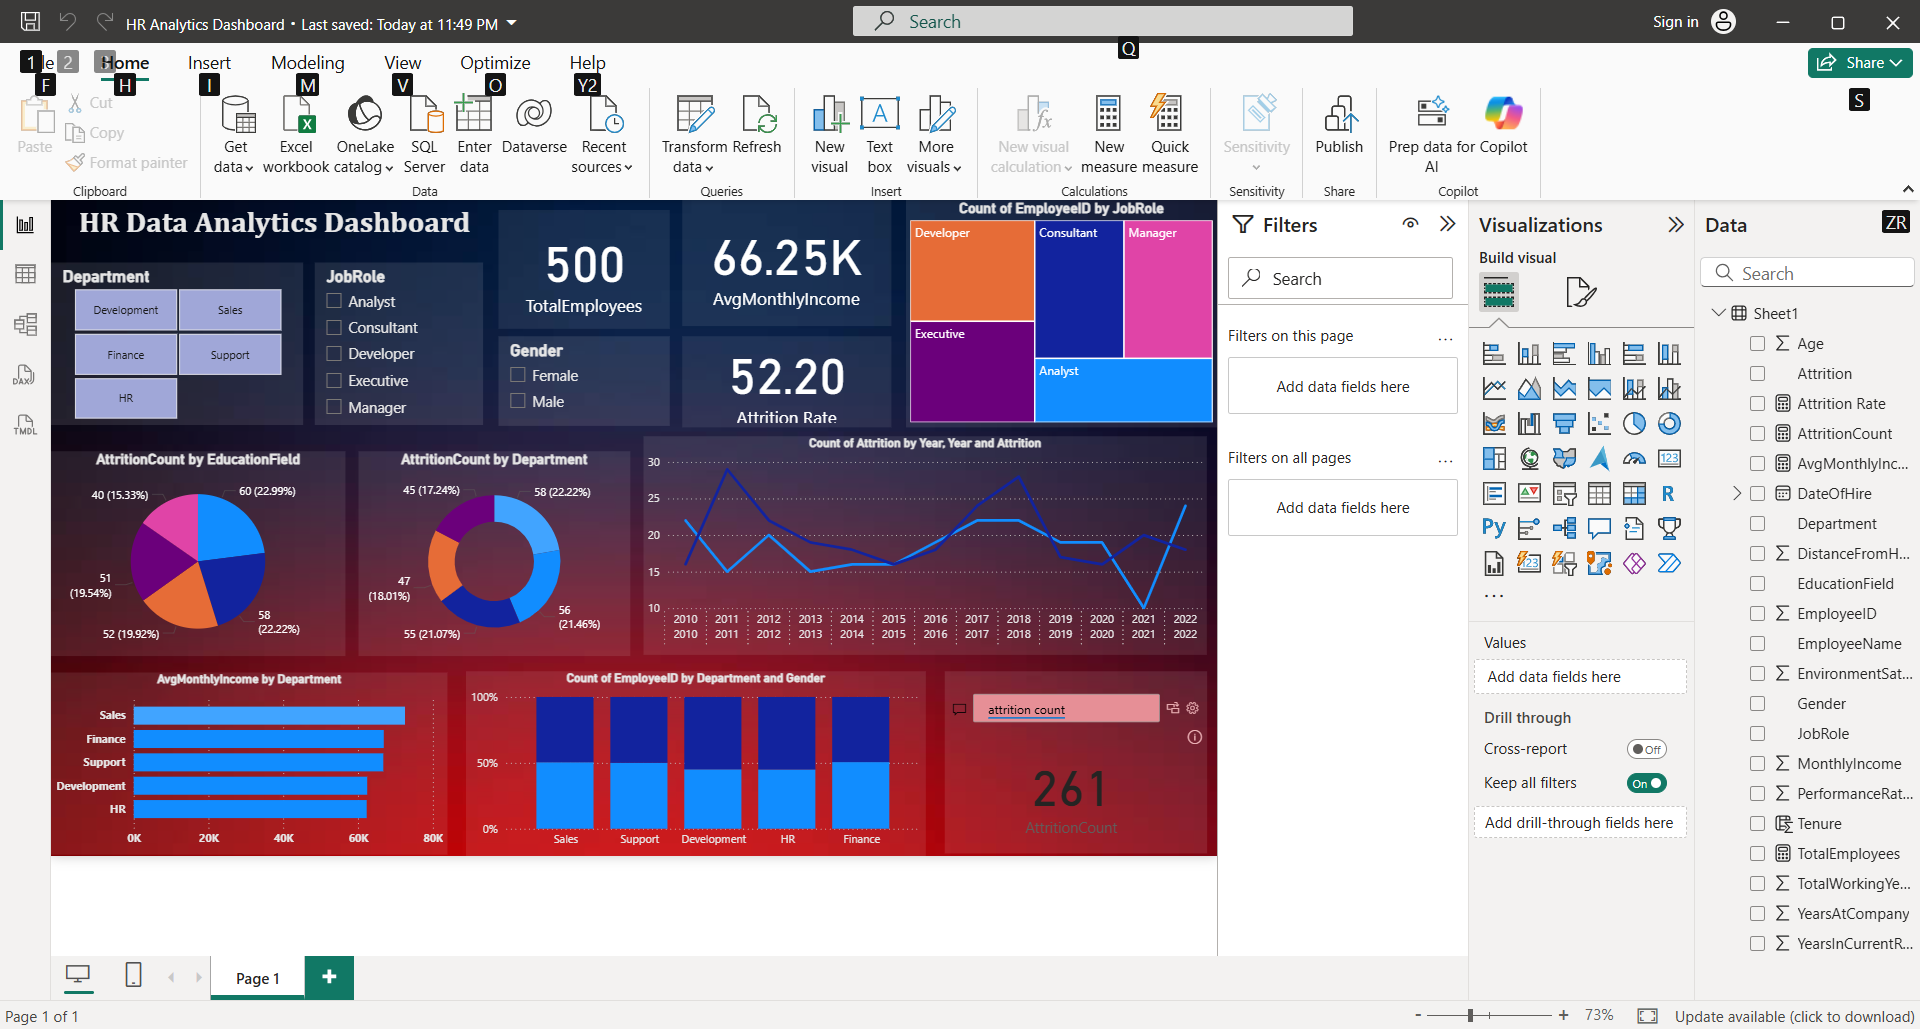

This screenshot's page, from the dashboard's own definition file:
{"tool":"powerbi","page":{"name":"Page 1","canvas":[1280,720],"ordinal":0},"visuals":[{"type":"slicer","fields":{"Values":["Sheet1.Department"]},"box":[0,69.2,276.9,178.5],"z":0},{"type":"slicer","fields":{"Values":["Sheet1.Gender"]},"box":[490.8,149.2,187.7,98.5],"z":1000},{"type":"slicer","fields":{"Values":["Sheet1.JobRole"]},"box":[289.2,69.2,184.6,178.5],"z":2000},{"type":"pieChart","fields":{"Y":["Sheet1.AttritionCount"],"Category":["Sheet1.EducationField"]},"box":[0,275.4,323.1,224.6],"z":3000},{"type":"donutChart","fields":{"Y":["Sheet1.AttritionCount"],"Category":["Sheet1.Department"]},"box":[336.9,275.4,298.5,224.6],"z":4000},{"type":"hundredPercentStackedColumnChart","fields":{"Category":["Sheet1.Department"],"Y":["CountNonNull(Sheet1.EmployeeID)"],"Series":["Sheet1.Gender"]},"box":[455.4,516.9,504.6,203.1],"z":5000},{"type":"treemap","fields":{"Values":["CountNonNull(Sheet1.EmployeeID)"],"Details":["Sheet1.JobRole"]},"box":[938.5,0,341.5,249.2],"z":6000},{"type":"barChart","fields":{"Category":["Sheet1.Department"],"Y":["Sheet1.AvgMonthlyIncome"]},"box":[0,518.5,435.4,200],"z":7000},{"type":"lineChart","fields":{"Category":["Sheet1.DateOfHire.Variation.Date Hierarchy.Year","Sheet1.DateOfHire.Variation.Date Hierarchy.Year"],"Y":["CountNonNull(Sheet1.Attrition)"],"Series":["Sheet1.Attrition"]},"box":[650.8,260,618.5,240],"z":8000},{"type":"card","fields":{"Values":["Sheet1.Attrition Rate"]},"box":[692.3,149.2,229.2,100],"z":9000},{"type":"card","fields":{"Values":["Sheet1.TotalEmployees"]},"box":[490.8,10.8,187.7,130.8],"z":10000},{"type":"card","fields":{"Values":["Sheet1.AvgMonthlyIncome"]},"box":[692.3,0,229.2,138.5],"z":11000},{"type":"qnaVisual","box":[981.5,516.9,287.7,200],"z":12000},{"type":"textbox","box":[0,0,491.2,58.8],"z":13000}]}

Visuals, with their boxes on the page's 1280x720 design canvas (x1, y1, x2, y2). These are canvas units, not pixel positions in the 1920x1029 screenshot, which may show the page scaled, cropped or inside an application window:
slicer - Sheet1.Department: {"left": 0, "top": 69, "right": 277, "bottom": 248}
slicer - Sheet1.Gender: {"left": 491, "top": 149, "right": 678, "bottom": 248}
slicer - Sheet1.JobRole: {"left": 289, "top": 69, "right": 474, "bottom": 248}
pieChart - Sheet1.AttritionCount x Sheet1.EducationField: {"left": 0, "top": 275, "right": 323, "bottom": 500}
donutChart - Sheet1.AttritionCount x Sheet1.Department: {"left": 337, "top": 275, "right": 635, "bottom": 500}
hundredPercentStackedColumnChart - Sheet1.Department x CountNonNull(Sheet1.EmployeeID): {"left": 455, "top": 517, "right": 960, "bottom": 720}
treemap - CountNonNull(Sheet1.EmployeeID) x Sheet1.JobRole: {"left": 938, "top": 0, "right": 1280, "bottom": 249}
barChart - Sheet1.Department x Sheet1.AvgMonthlyIncome: {"left": 0, "top": 518, "right": 435, "bottom": 718}
lineChart - Sheet1.DateOfHire.Variation.Date Hierarchy.Year x Sheet1.DateOfHire.Variation.Date Hierarchy.Year: {"left": 651, "top": 260, "right": 1269, "bottom": 500}
card - Sheet1.Attrition Rate: {"left": 692, "top": 149, "right": 922, "bottom": 249}
card - Sheet1.TotalEmployees: {"left": 491, "top": 11, "right": 678, "bottom": 142}
card - Sheet1.AvgMonthlyIncome: {"left": 692, "top": 0, "right": 922, "bottom": 138}
qnaVisual: {"left": 982, "top": 517, "right": 1269, "bottom": 717}
textbox: {"left": 0, "top": 0, "right": 491, "bottom": 59}
